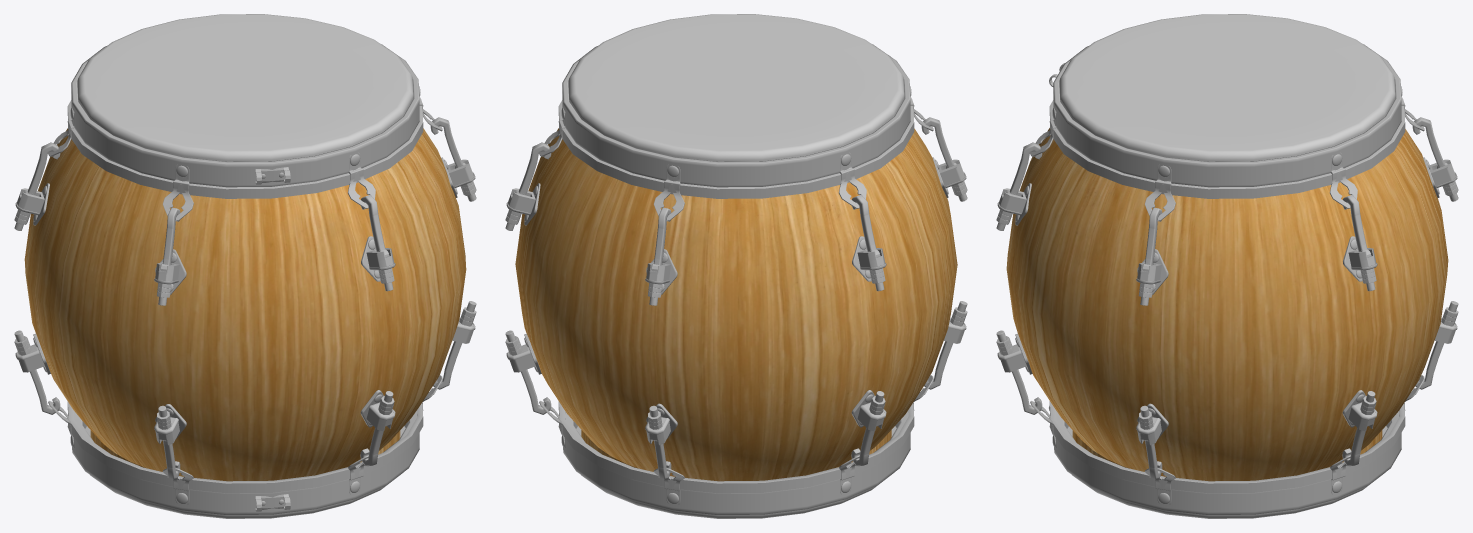
File: thiccyvicky.fbx
3 renders of one model, left to right at view 1: azimuth 30°, elevation 25°; view 2: azimuth 150°, elevation 25°; view 3: azimuth 270°, elevation 25°, orthographic.
Visible parts, largest first — view 1: ngomaMega; view 2: ngomaMega; view 3: ngomaMega.
Boxes of the visible parts, x1=… form: ngomaMega: x1=14, y1=14, x2=476, y2=518; ngomaMega: x1=505, y1=14, x2=967, y2=518; ngomaMega: x1=996, y1=14, x2=1458, y2=518.
Size of the model in its own units: 9.24 by 8.47 by 9.67.
